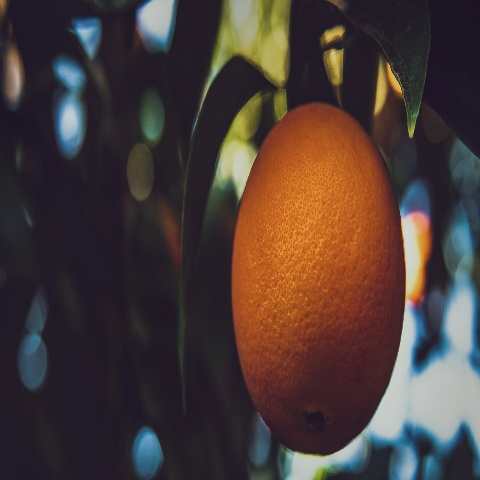orange: (213, 97, 441, 469)
